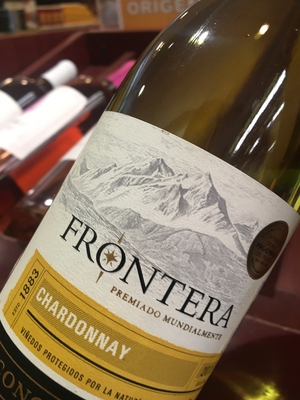frontera chardonnay: (19, 22, 282, 399)
